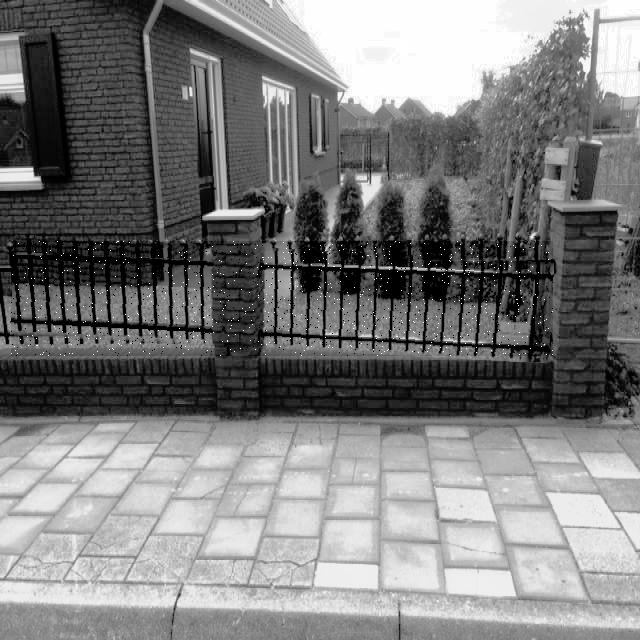fences: (11, 241, 553, 356)
